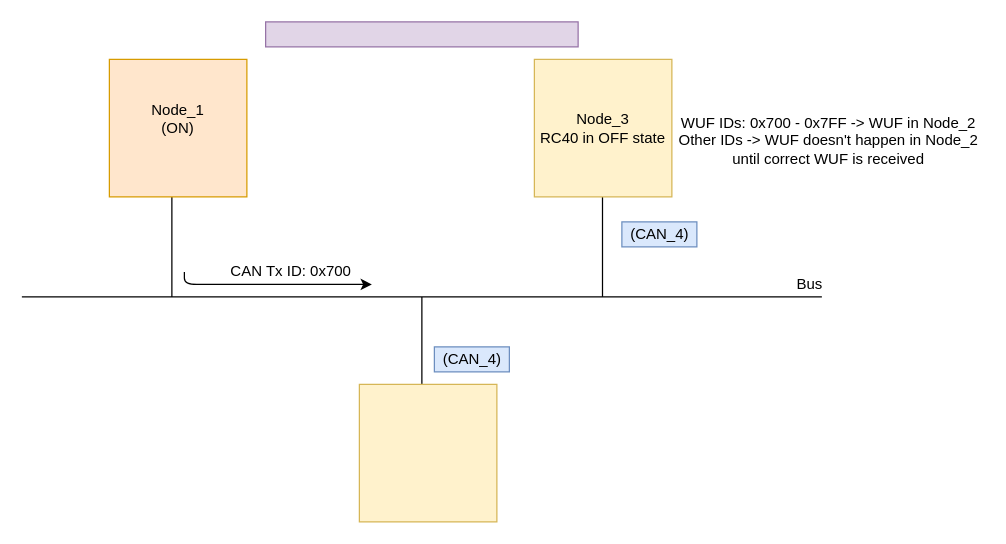
The diagram is 1006 pixels wide and 544 high, and some of its shapes have lost their labels. The centre of each missing label's shape, as x and y in pixels:
Node_2 RC40 in ON state: point 427,452
Use Case - Wakeup by CAN - WUF - 3 ECUs: point 421,34
